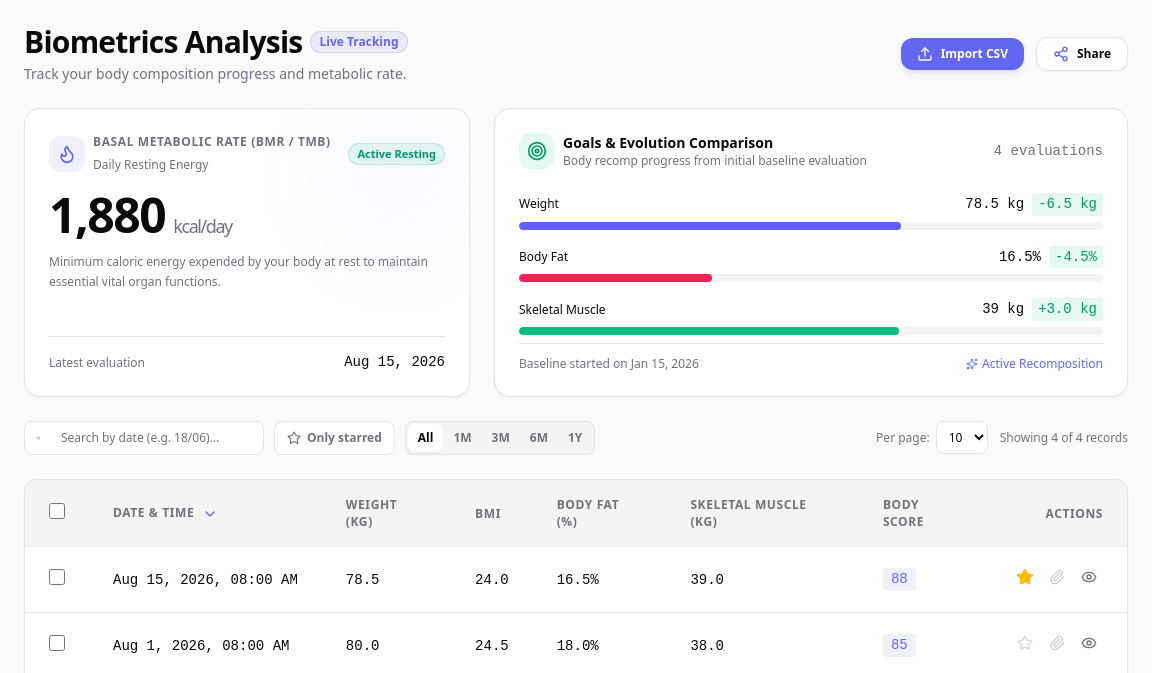
Test: Biometrics View Component › opens record details drawer when clicking directly on a table row
# Click directly on a cell in the row
What coordinates should you click on to do the following:
click the text "78.5"
I would click on:
 (363, 580)
Its box is [322,547,451,613].
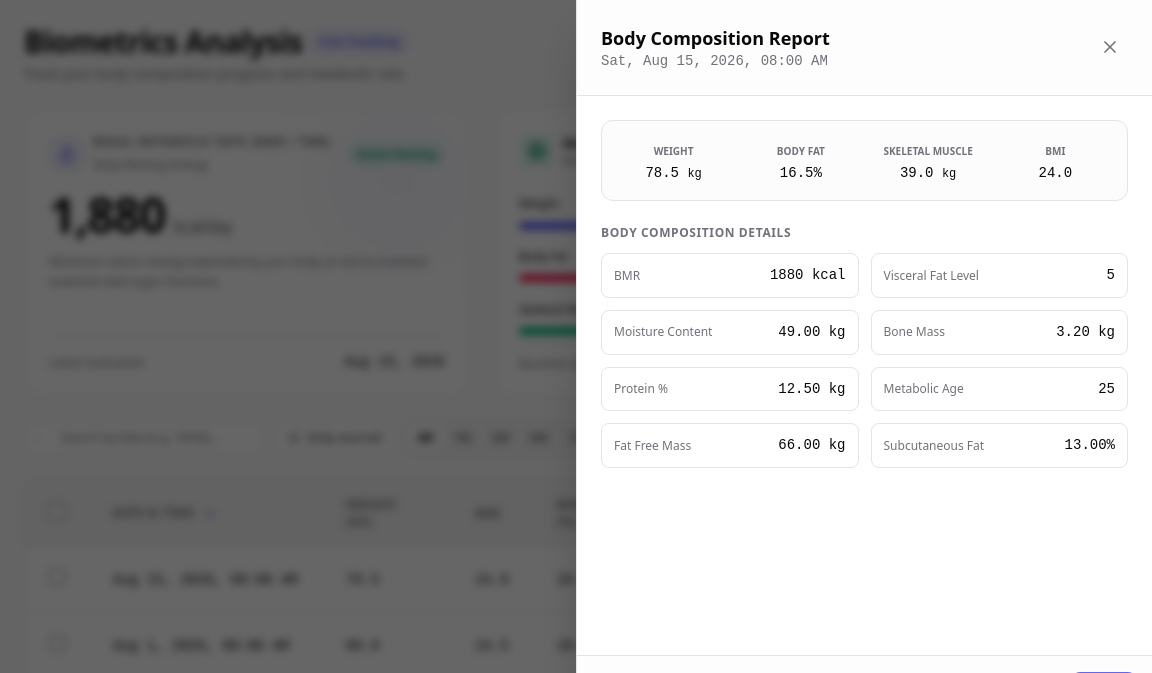
Expected: the heading "Body Composition Report" is shown, [601,24,830,52]
